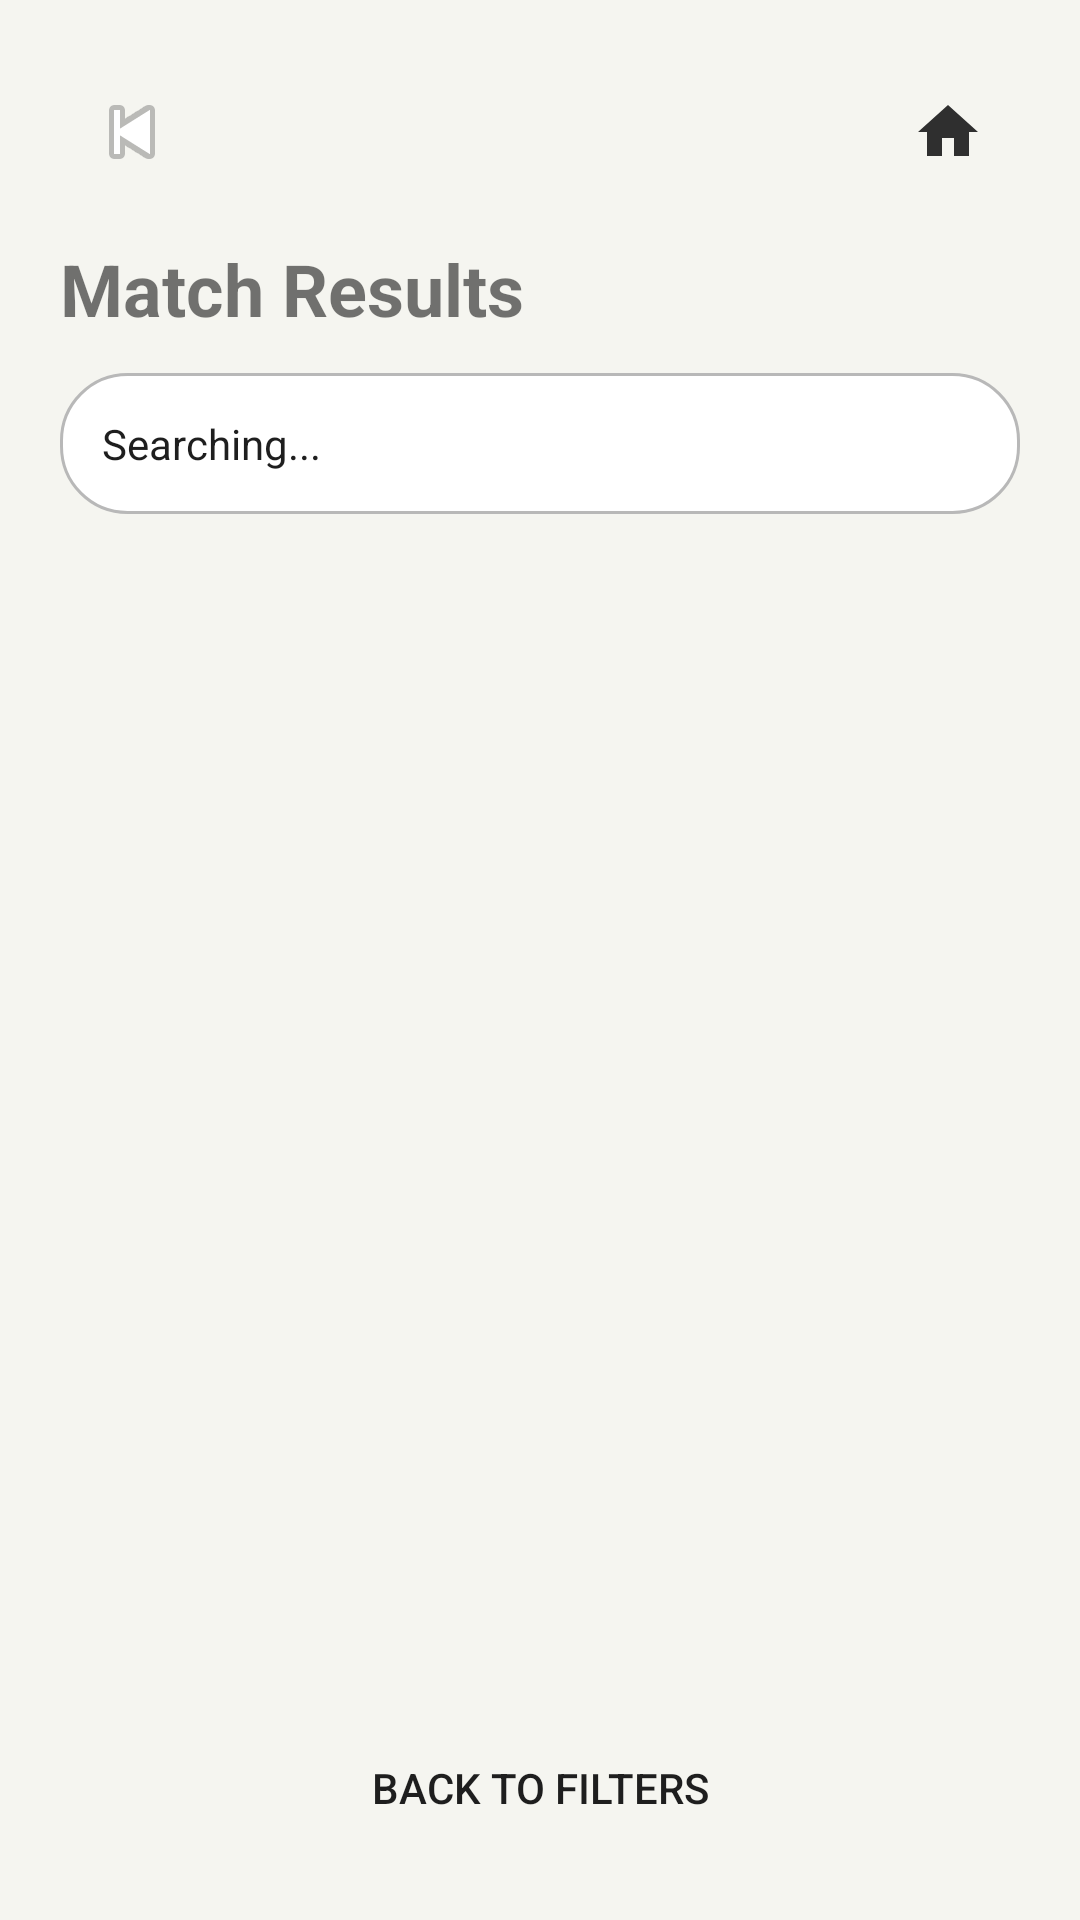

Where to tap for icons on this 1080 × 1920 app screen, as [x,y]:
Back: [132,132]
Home: [948,130]
